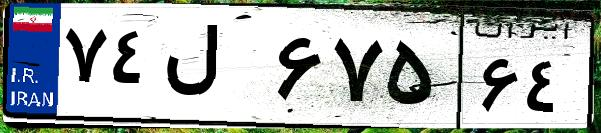4: (525, 38, 570, 115), (110, 28, 158, 98)
5: (385, 28, 445, 110)
6: (270, 28, 330, 110), (475, 38, 525, 113)
7: (330, 28, 385, 110), (57, 26, 110, 100)
ل: (158, 20, 270, 120)
